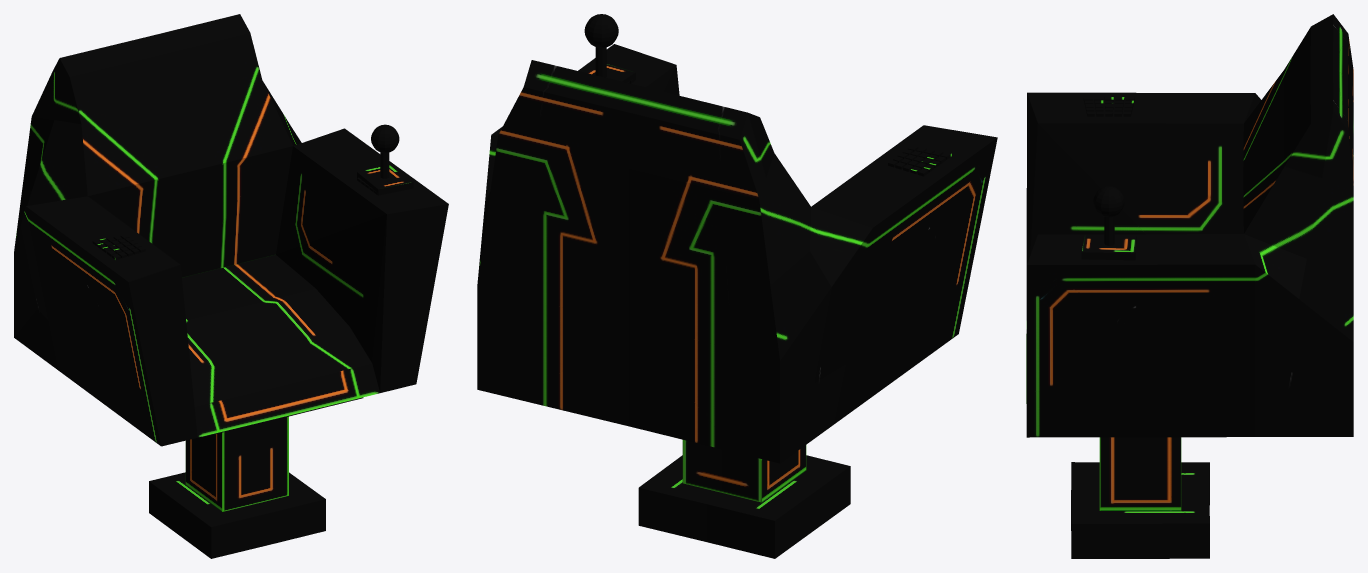
File: sillaGay.fbx
3 views of the same model, side by side, from view 1: azimuth 30°, elevation 25°; view 2: azimuth 150°, elevation 25°; view 3: azimuth 270°, elevation 25° (orthographic). The views are drawn at different scales.
Parts seen in each view (by area): view 1: Cube.002; view 2: Cube.002; view 3: Cube.002.
Boxes of the visible parts, x1,y1,x2,y2 form: Cube.002: (14, 14, 448, 558); Cube.002: (477, 14, 997, 558); Cube.002: (1026, 14, 1353, 558).
Bounding box in the file's own units: 249 × 314 × 200.
Materials: 1 (1 with a texture image).
